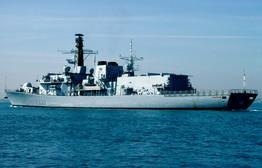warship: (7, 33, 252, 107)
